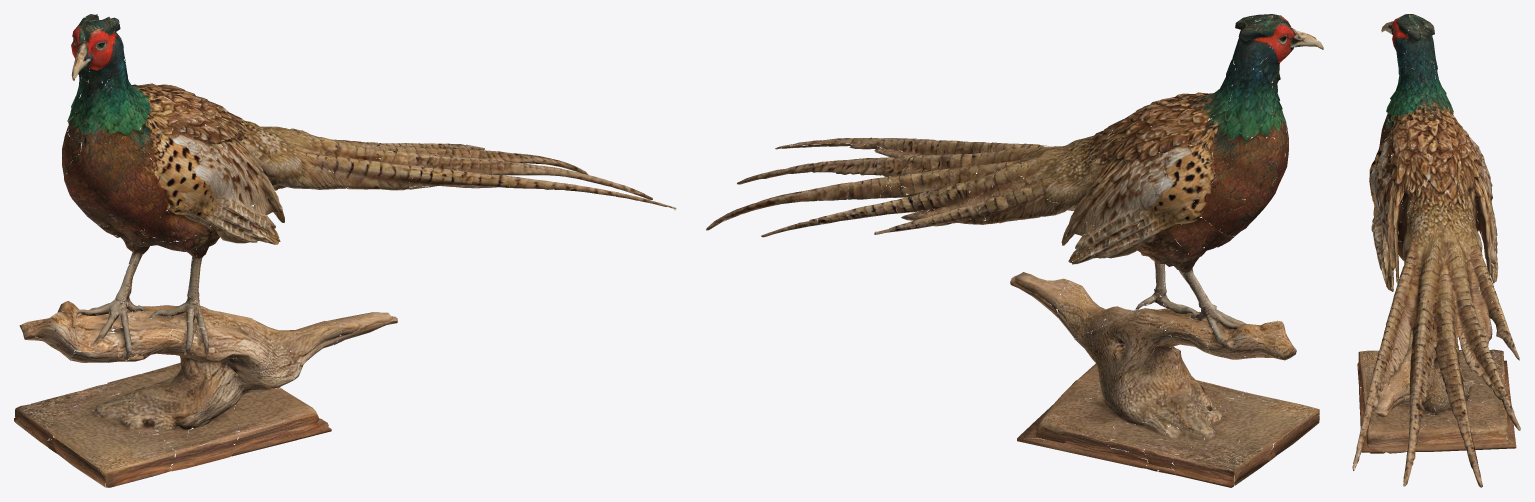
File: pheasant_prop.glb
3 views of the same model, side by side, from view 1: azimuth 30°, elevation 25°; view 2: azimuth 150°, elevation 25°; view 3: azimuth 270°, elevation 25° (orthographic). The views are drawn at different scales.
Parts seen in each view (by area): view 1: prop_pheasant; view 2: prop_pheasant; view 3: prop_pheasant.
Part boxes in pixels (x1=…): prop_pheasant: x1=14, y1=14, x2=676, y2=487; prop_pheasant: x1=706, y1=14, x2=1323, y2=487; prop_pheasant: x1=1352, y1=14, x2=1520, y2=487.
Size of the model in its own units: 0.9822 by 0.6861 by 0.2936.
1 material, 1 textured.
